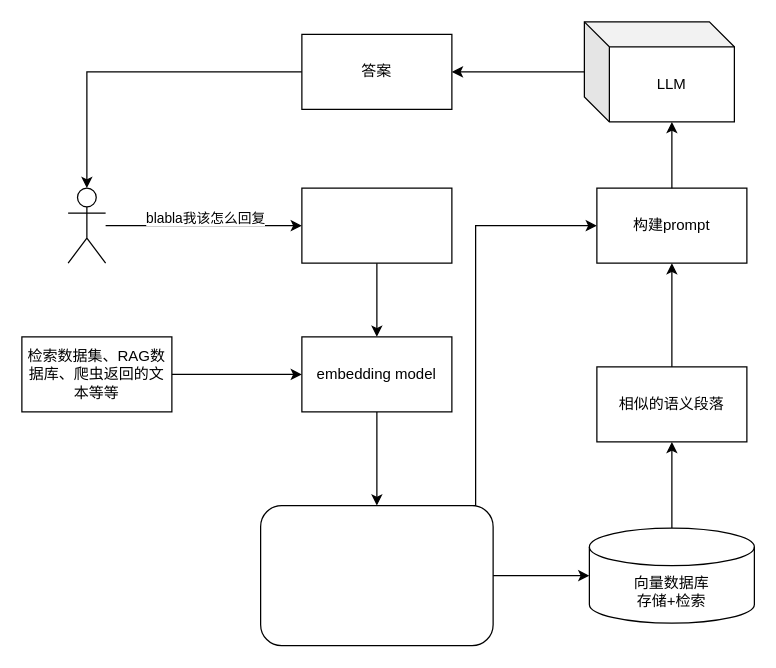
The diagram is 776 pixels wide and 668 high, and some of its shapes have lost their labels. Each missing label, with the box of its shape:
Question: (301, 187, 452, 263)
question embedding / semantic vector: (259, 504, 493, 646)
user: (67, 187, 106, 263)
